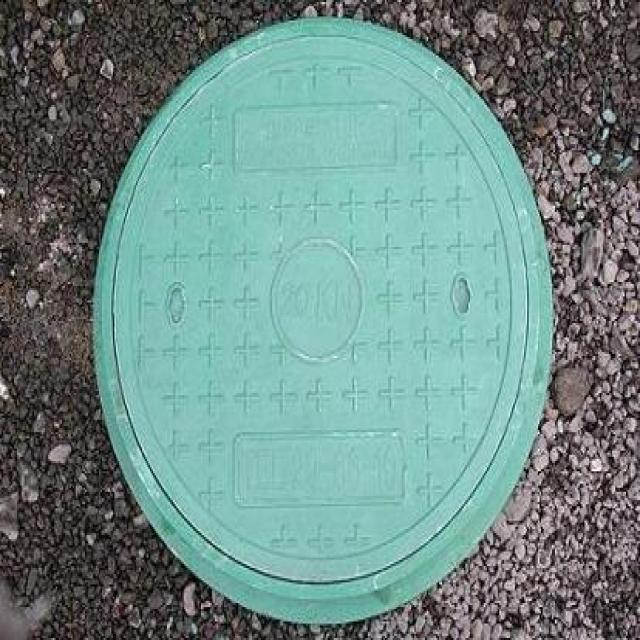manhole: (94, 18, 552, 623)
